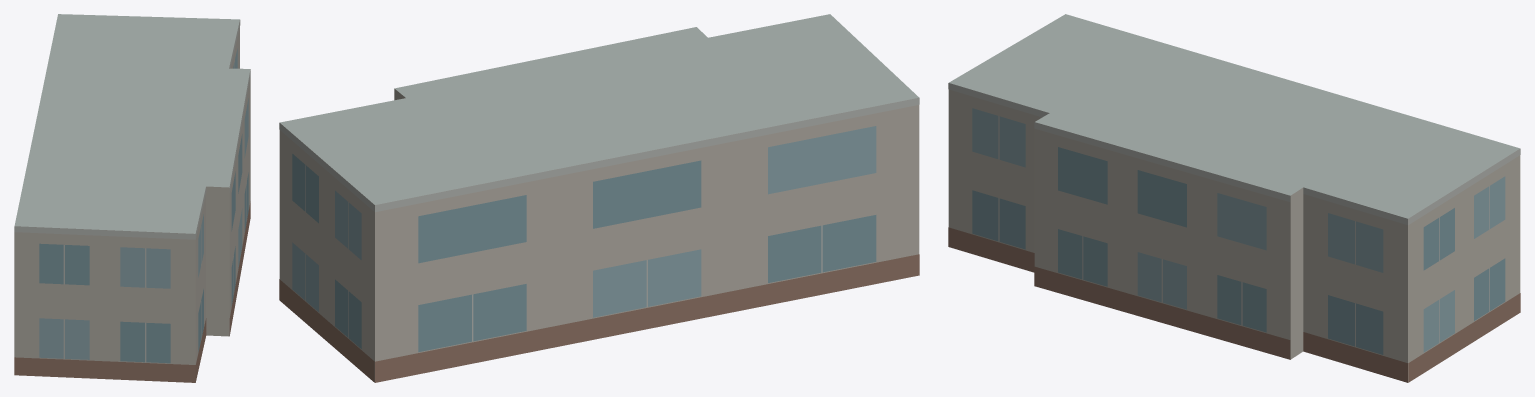
File: survey-upis-32609183.glb
3 renders of one model, left to right at view 1: azimuth 30°, elevation 25°; view 2: azimuth 150°, elevation 25°; view 3: azimuth 270°, elevation 25°, orthographic. The views are drawn at different scales.
Visible parts, largest first — view 1: survey-upis-32609183.tmp; view 2: survey-upis-32609183.tmp; view 3: survey-upis-32609183.tmp.
Boxes of the visible parts, x1,y1,x2,y2 form: survey-upis-32609183.tmp: (14, 14, 250, 382); survey-upis-32609183.tmp: (279, 14, 919, 382); survey-upis-32609183.tmp: (948, 14, 1520, 382).
Size of the model in its own units: 16.33 by 6.1 by 19.27.
